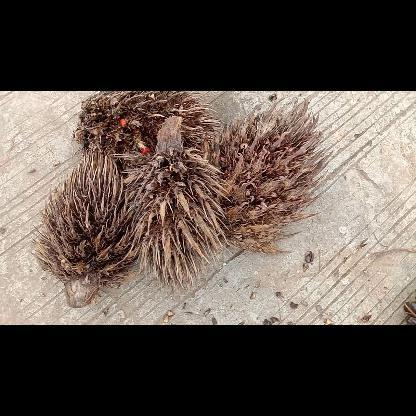Janjang kosong: (208, 96, 330, 258), (126, 116, 230, 288), (36, 149, 138, 304), (74, 90, 221, 170)
